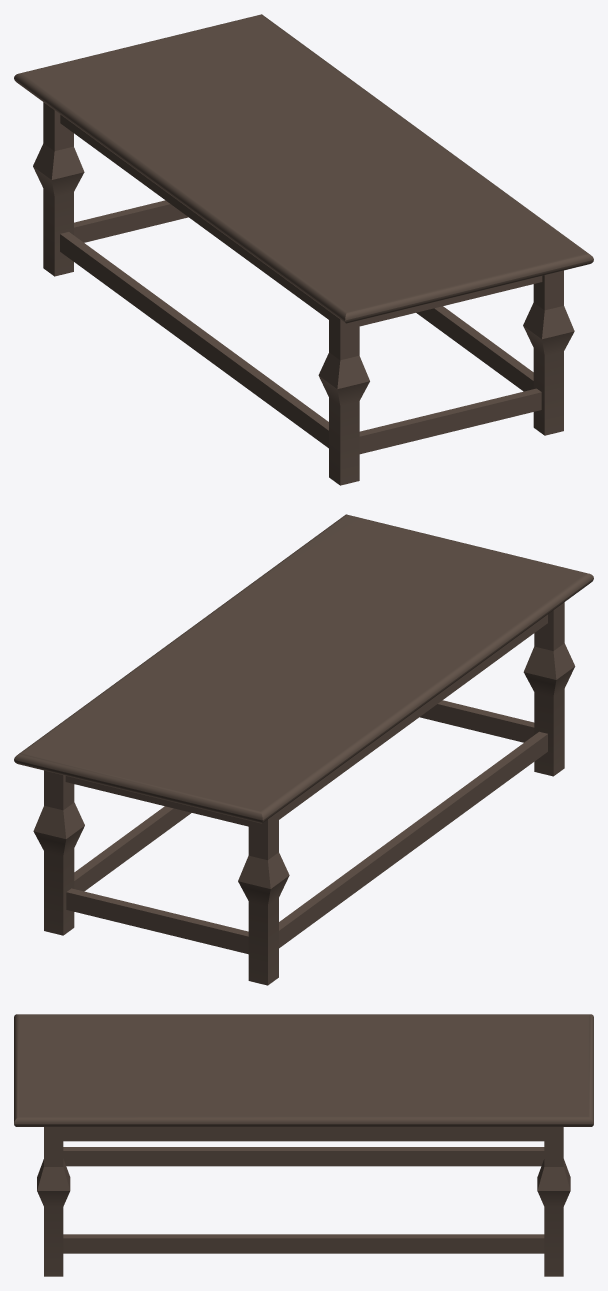
The model's file is GrandeTable_60.fbx.
The picture shows the model from 3 angles, top to bottom: view 1: azimuth 30°, elevation 25°; view 2: azimuth 150°, elevation 25°; view 3: azimuth 270°, elevation 25°; orthographic projection. The views are drawn at different scales.
Parts seen in each view (by area): view 1: pCube97, pCube99, polySurface27, polySurface24, polySurface26, pCube101, pCube98, pCube100; view 2: pCube97, pCube99, polySurface26, polySurface25, polySurface27, pCube100, pCube98, pCube101; view 3: pCube97, pCube98, pCube99, polySurface25, polySurface24.
Boxes of the visible parts, x1,y1,x2,y2 form: pCube97: [14, 14, 593, 326]; pCube99: [60, 232, 328, 448]; polySurface27: [318, 311, 369, 485]; polySurface24: [523, 270, 574, 435]; polySurface26: [33, 102, 84, 276]; pCube101: [359, 388, 541, 454]; pCube98: [416, 306, 533, 391]; pCube100: [74, 200, 188, 242]; pCube97: [14, 514, 593, 826]; pCube99: [279, 731, 547, 948]; polySurface26: [238, 811, 289, 985]; polySurface25: [33, 770, 84, 935]; polySurface27: [523, 602, 575, 776]; pCube100: [66, 888, 248, 954]; pCube98: [74, 806, 191, 891]; pCube101: [420, 700, 534, 742]; pCube97: [14, 1014, 593, 1141]; pCube98: [63, 1234, 544, 1253]; pCube99: [63, 1147, 544, 1166]; polySurface25: [537, 1127, 570, 1276]; polySurface24: [37, 1127, 70, 1276].
Bounding box in the file's own units: 56.23 × 40.23 × 130.
